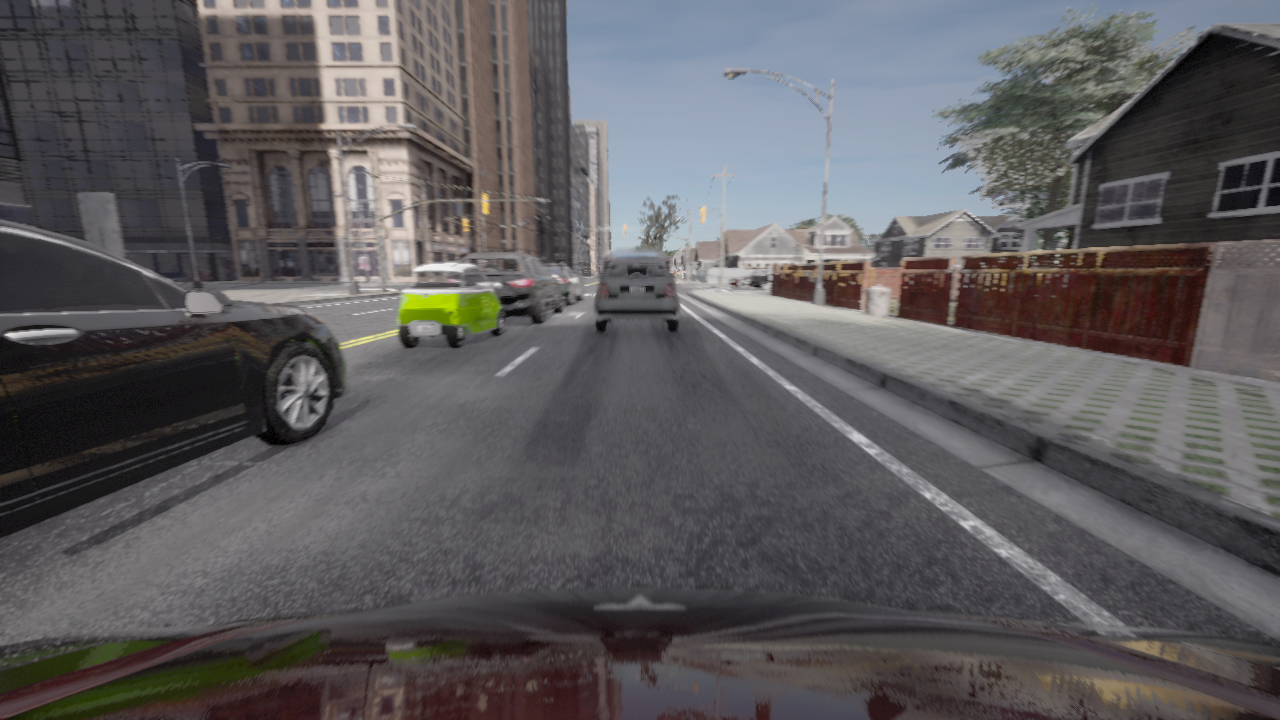cyclist: (0, 588, 1279, 719), (398, 262, 504, 348), (459, 252, 564, 323), (594, 255, 679, 331), (543, 263, 583, 305), (604, 248, 670, 270), (726, 270, 766, 287), (747, 270, 770, 290)
